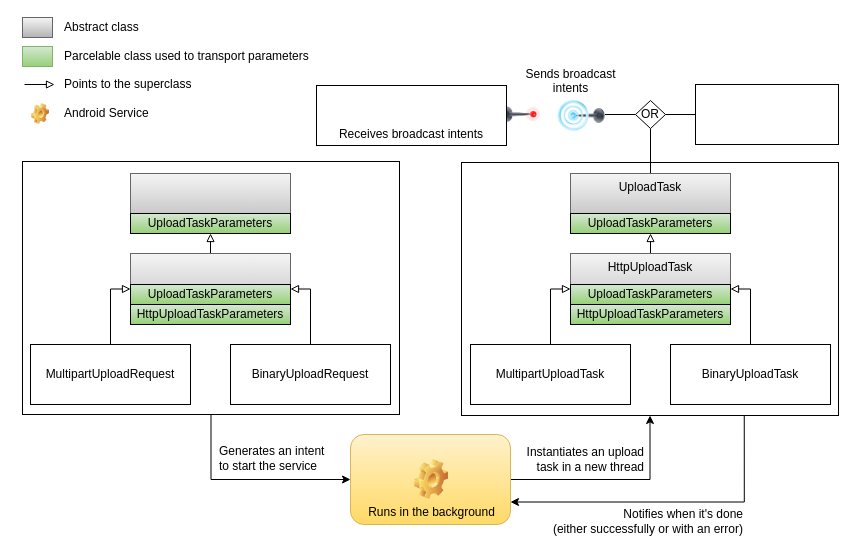
This 856x560 diagram has some shape labels left out. Each missing label, with the box of its shape:
HttpUploadRequest: (130, 252, 290, 324)
UploadRequest: (130, 172, 290, 234)
UploadService: (350, 434, 510, 524)
UploadServiceBroadcastReceiver: (316, 84, 506, 146)
UploadStatusDelegate: (694, 84, 838, 144)
